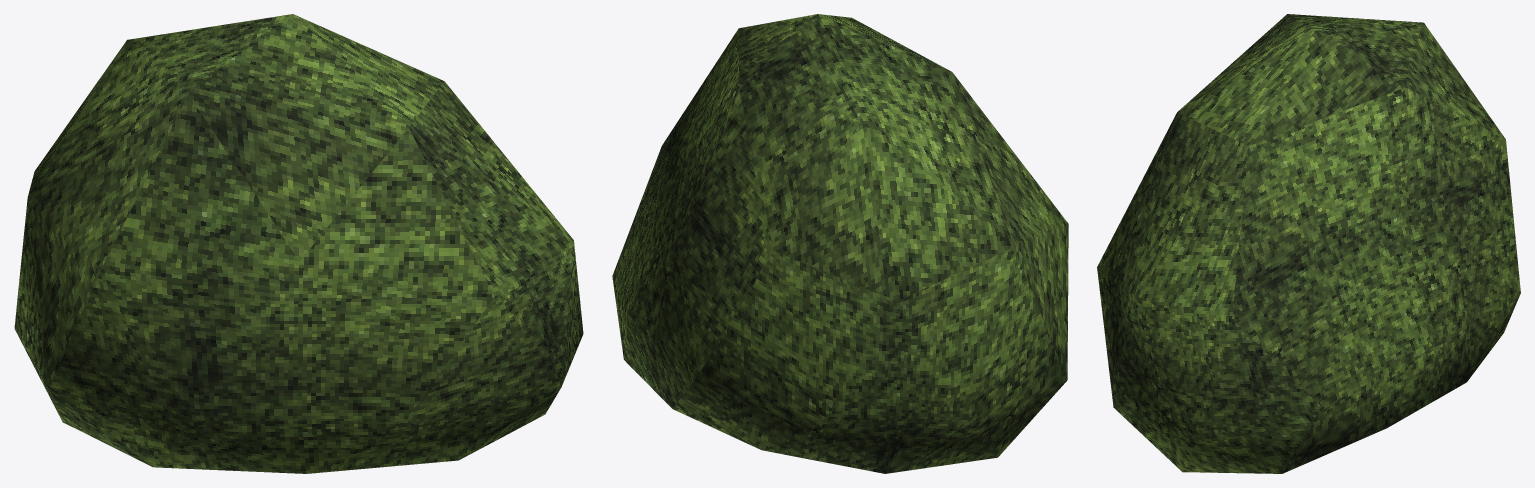
The model's file is cali2.fbx.
3 renders of one model, left to right at view 1: azimuth 30°, elevation 25°; view 2: azimuth 150°, elevation 25°; view 3: azimuth 270°, elevation 25°, orthographic. The views are drawn at different scales.
Visible parts, largest first — view 1: cali2; view 2: cali2; view 3: cali2.
Part boxes in pixels (bbox=[...]): cali2: bbox=[14, 14, 583, 473]; cali2: bbox=[612, 14, 1068, 473]; cali2: bbox=[1097, 14, 1520, 473].
Bounding box in the file's own units: 238 × 198 × 199.
